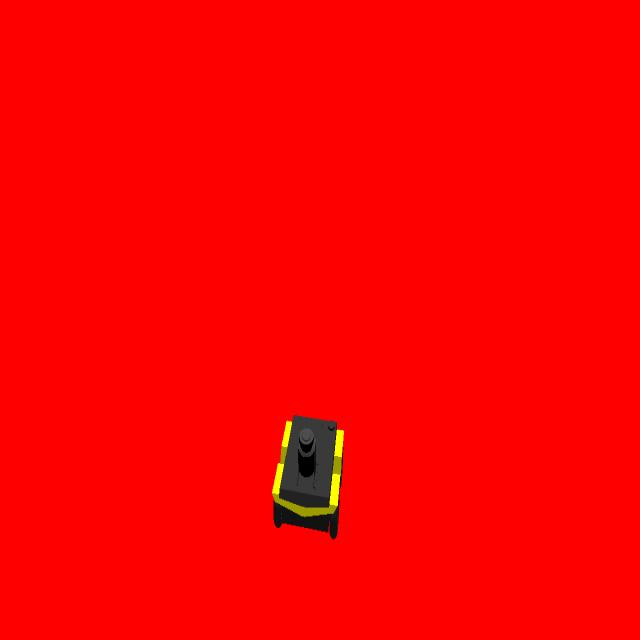jackal: (273, 409, 345, 540)
